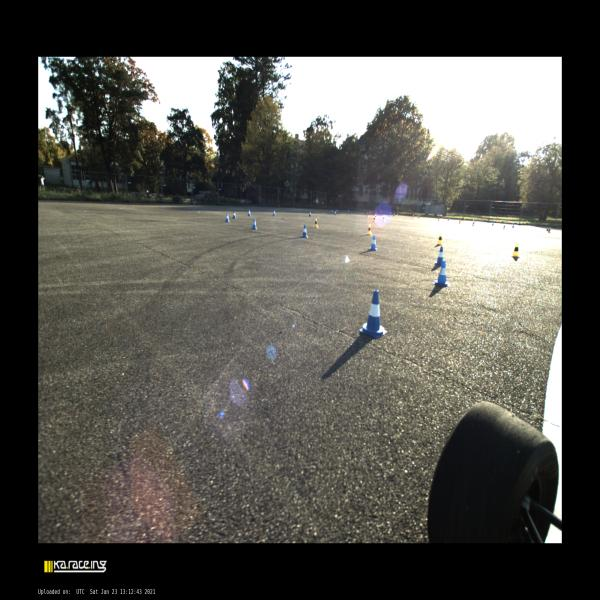blue_cone: (358, 289, 388, 339), (432, 259, 451, 287), (368, 234, 378, 251), (434, 246, 441, 266), (300, 224, 309, 238), (251, 218, 258, 230), (231, 210, 237, 219), (225, 213, 230, 222), (246, 209, 251, 216), (272, 208, 276, 216), (308, 210, 312, 217), (347, 209, 350, 213), (546, 225, 548, 231), (491, 222, 494, 226), (334, 210, 336, 215), (331, 209, 333, 214), (512, 223, 514, 228), (336, 209, 338, 212), (393, 213, 395, 216), (447, 218, 449, 220), (418, 215, 419, 218), (370, 211, 371, 214)
yellow_cone: (511, 239, 520, 258), (436, 232, 443, 246), (366, 223, 372, 236), (312, 218, 319, 228), (372, 216, 375, 223), (548, 227, 551, 233), (382, 216, 385, 221), (458, 219, 461, 224), (374, 214, 377, 218), (437, 217, 440, 221), (503, 224, 505, 230), (366, 212, 368, 217), (472, 221, 474, 226), (412, 215, 414, 220), (390, 213, 391, 216)
